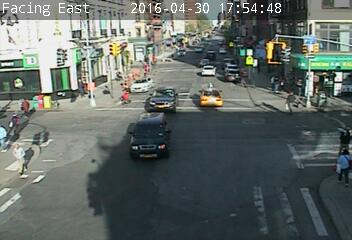neg: (148, 110, 169, 138), (55, 182, 75, 209), (189, 179, 209, 205), (101, 31, 121, 56), (230, 136, 249, 161), (227, 66, 245, 90), (127, 185, 145, 209), (153, 37, 170, 61), (85, 72, 101, 94), (195, 99, 210, 120), (292, 34, 307, 55), (89, 155, 104, 175), (79, 101, 94, 121), (38, 120, 52, 139), (194, 30, 208, 48), (333, 57, 346, 74), (259, 31, 272, 48), (54, 39, 66, 55), (114, 144, 125, 159)
pos: (319, 144, 349, 184), (7, 142, 32, 175), (330, 123, 350, 149), (281, 88, 300, 115), (117, 85, 133, 107), (19, 96, 35, 117)
